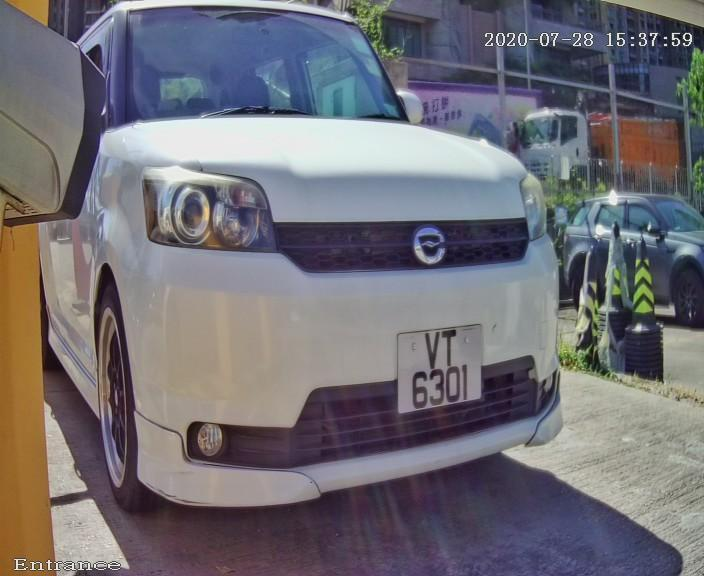privatecar: (34, 1, 568, 535)
